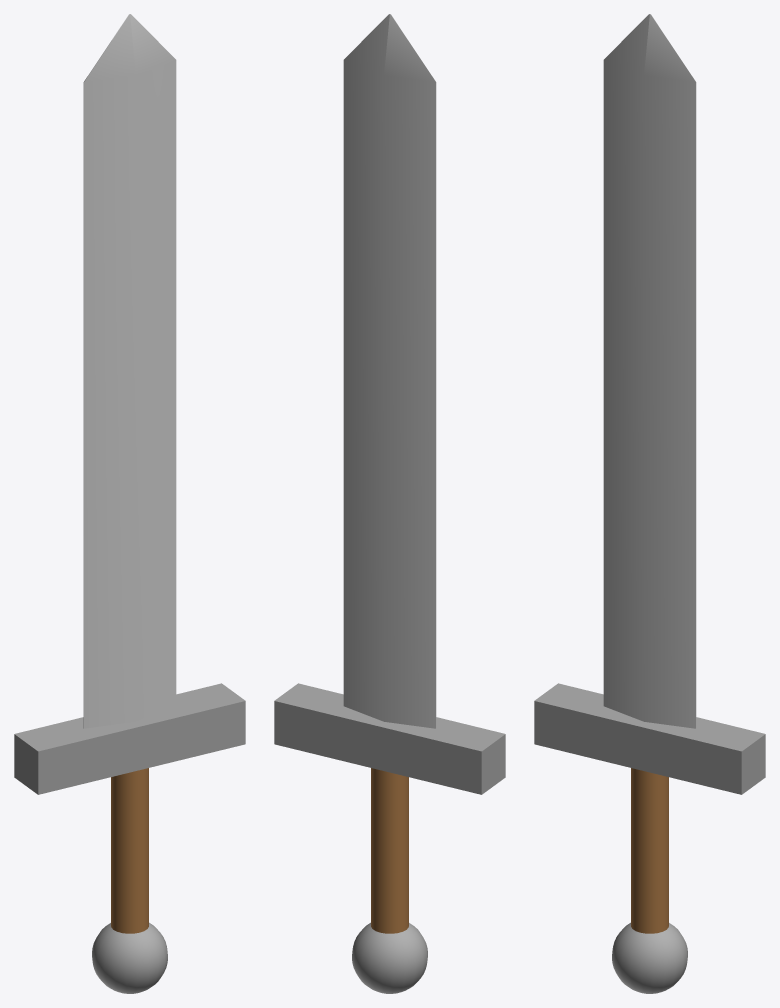
File: P_gareth_sword.fbx
The picture shows the model from 3 angles, left to right: view 1: azimuth 30°, elevation 25°; view 2: azimuth 150°, elevation 25°; view 3: azimuth 330°, elevation 25°; orthographic projection.
Visible parts, largest first — view 1: pCube3; view 2: pCube3; view 3: pCube3.
Part boxes in pixels (bbox=[...]): pCube3: bbox=[14, 14, 245, 993]; pCube3: bbox=[274, 14, 505, 993]; pCube3: bbox=[534, 14, 765, 993].
Bounding box in the file's own units: 50 × 225 × 16.
